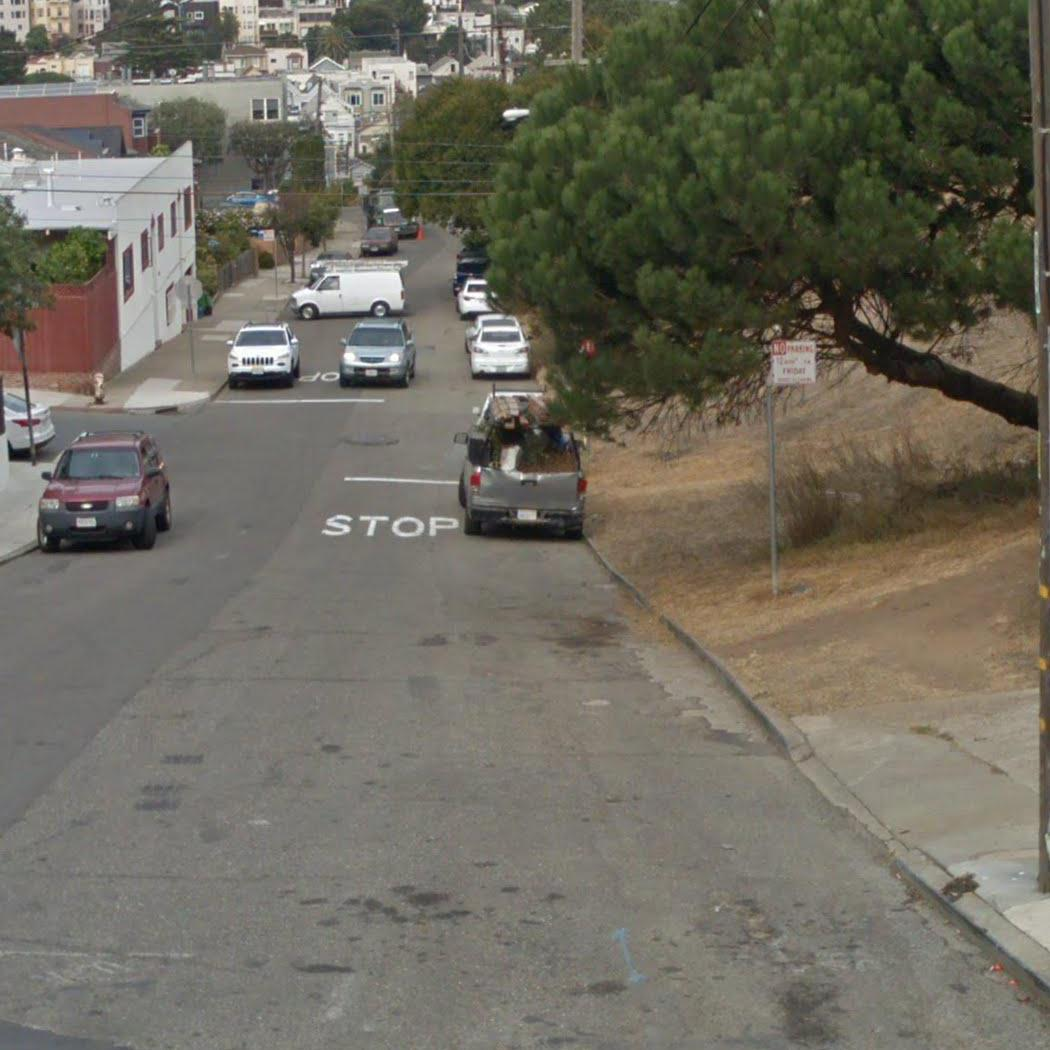No Parking: (768, 338, 819, 387)
